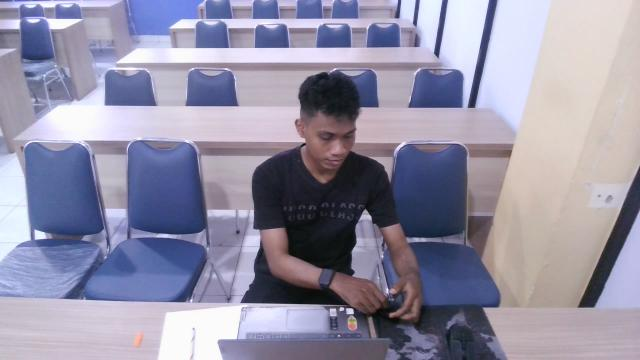Earpiece: (369, 282, 404, 313)
Head_Down_Extreme: (229, 53, 449, 346)
